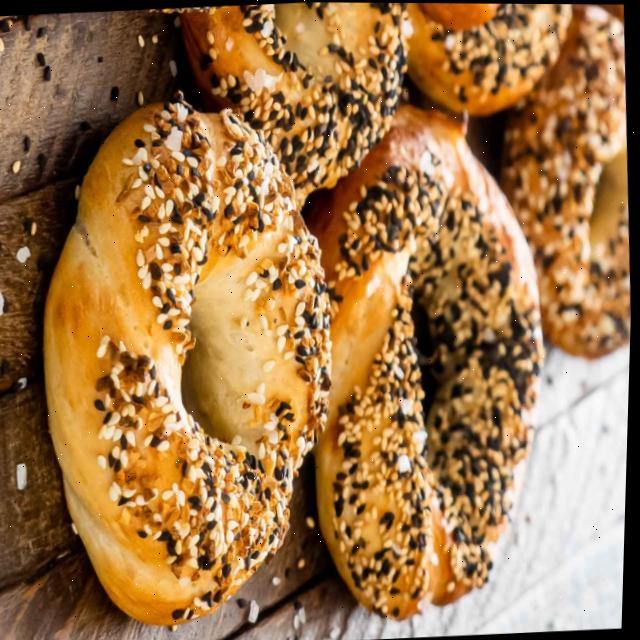Bagel: (45, 100, 333, 625), (306, 105, 545, 620), (500, 3, 633, 358), (182, 2, 409, 202), (407, 2, 571, 115)
